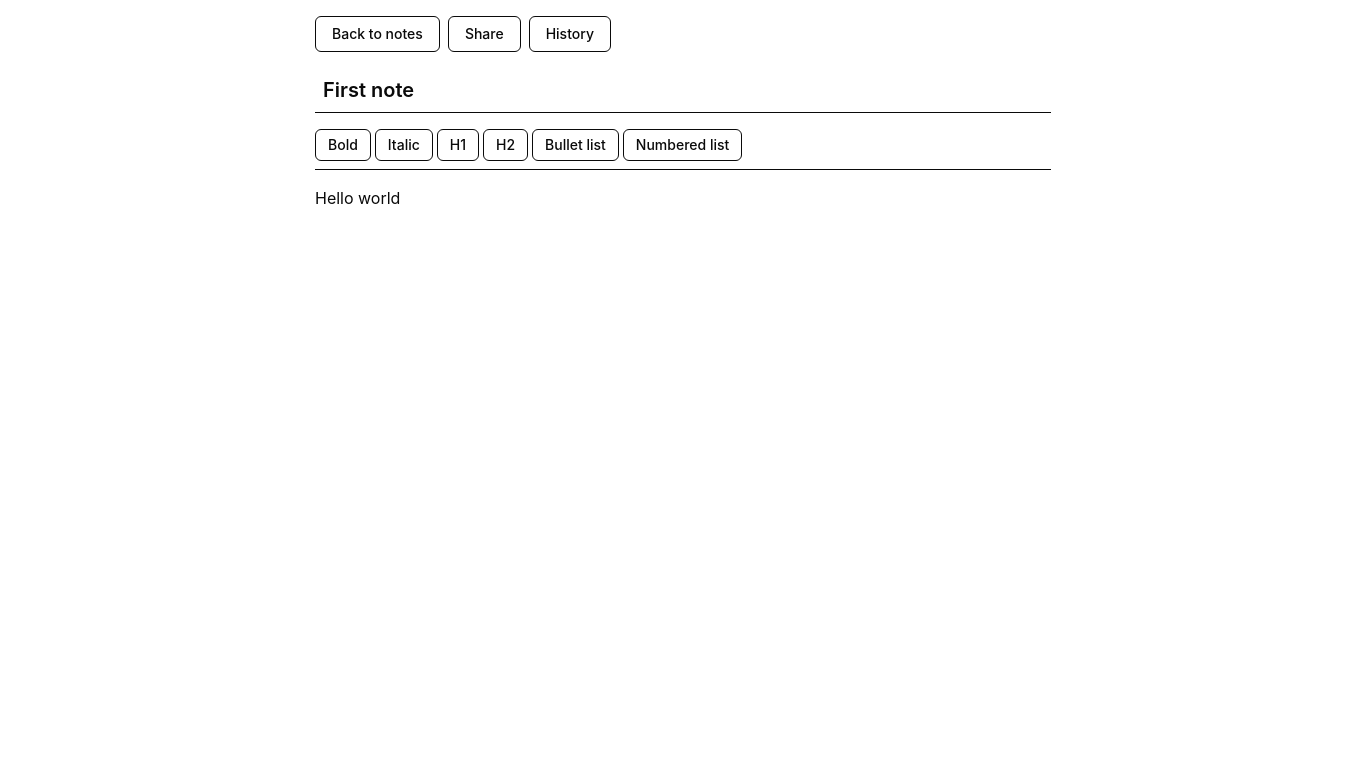
it: NoteEditorPage › Clicking Share opens the modal for the current note
This screenshot has width=1366, height=768.
Expected: the field showing "First note" is shown, [315,68,1051,113]
Expected: the text "This note has no active share link." is not shown
Click the button "Share": (484, 34) [448,16,521,52]
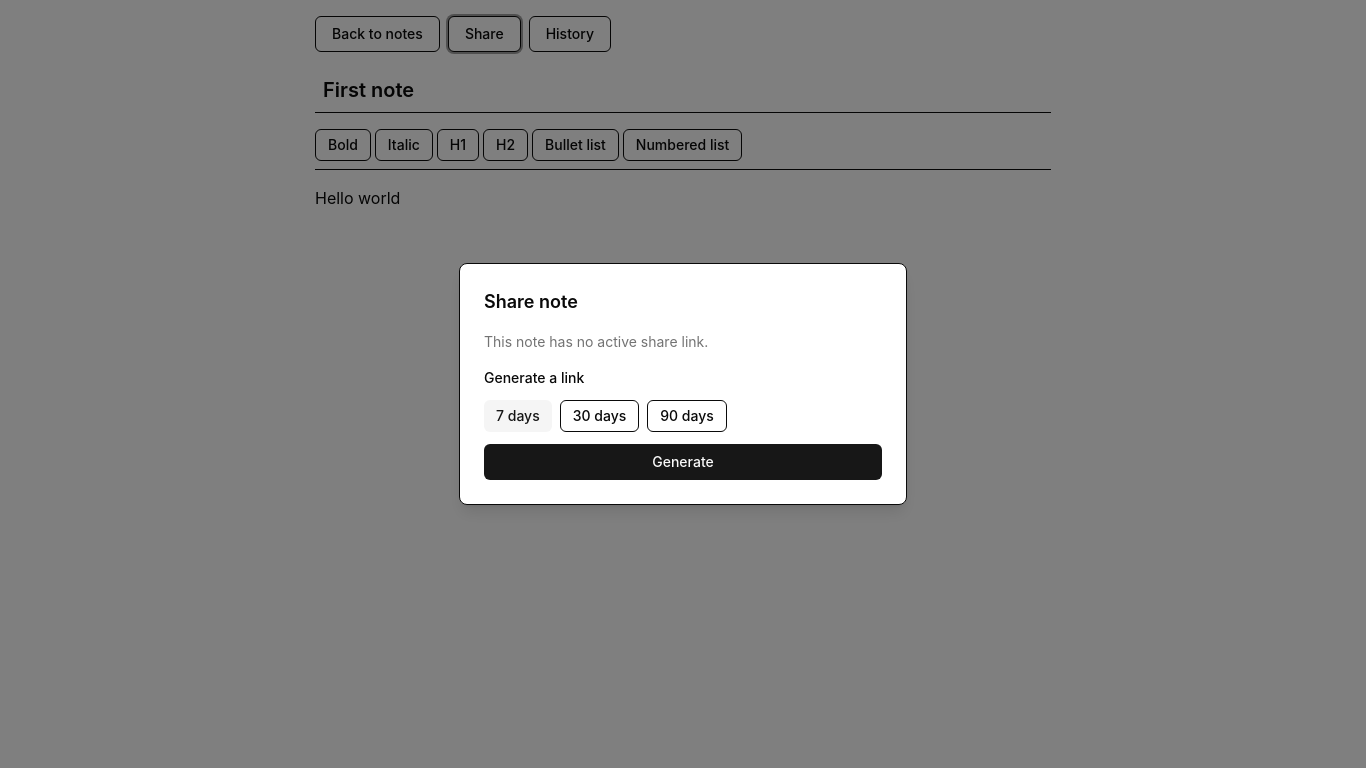
Now the text "This note has no active share link." is shown, box [484,333,708,350]
